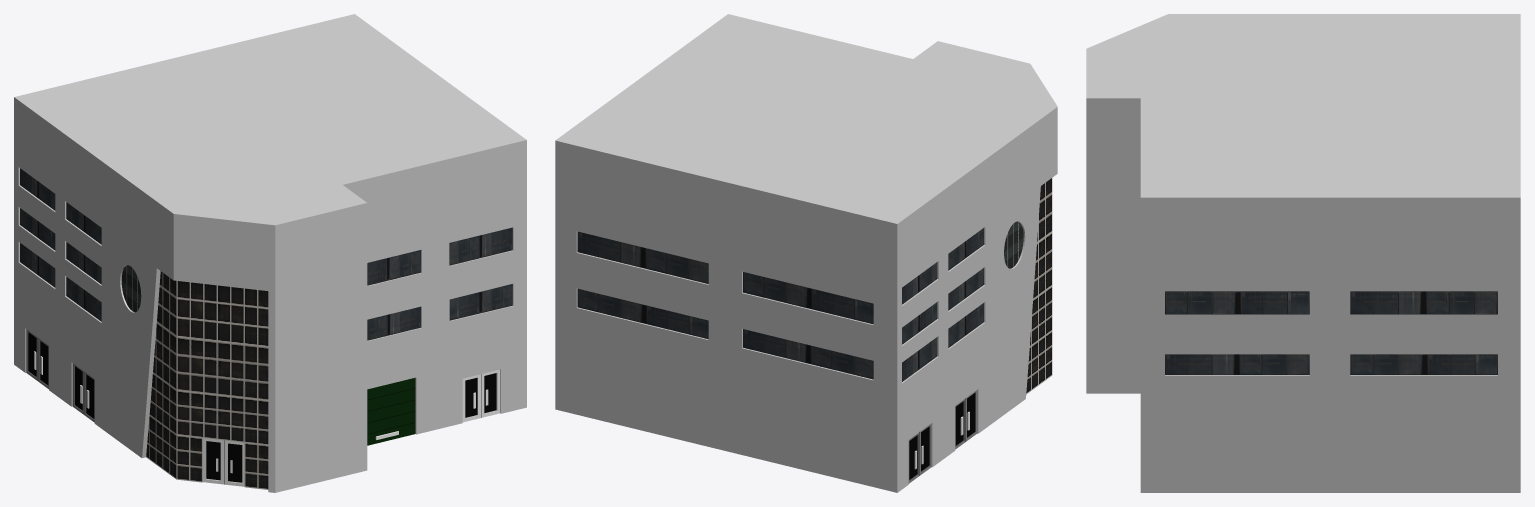
3 renders of one model, left to right at view 1: azimuth 30°, elevation 25°; view 2: azimuth 150°, elevation 25°; view 3: azimuth 270°, elevation 25°, orthographic. The views are drawn at different scales.
Visible parts, largest first — view 1: EB-010; view 2: EB-010; view 3: EB-010.
Part boxes in pixels (bbox=[...]): EB-010: bbox=[14, 14, 526, 492]; EB-010: bbox=[555, 14, 1057, 492]; EB-010: bbox=[1086, 14, 1520, 492].
Size of what is drawn, in the model's own units: 19.98 by 15 by 19.98.
